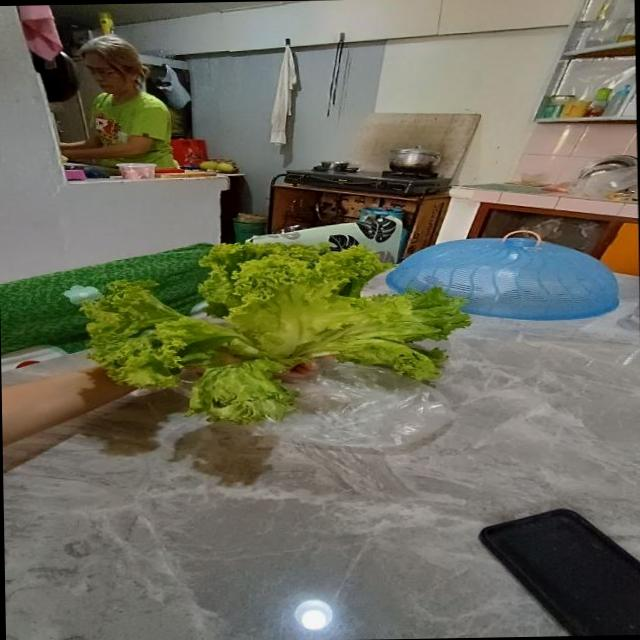Lettuce-Ready-to-Harvest: (82, 242, 469, 421)
